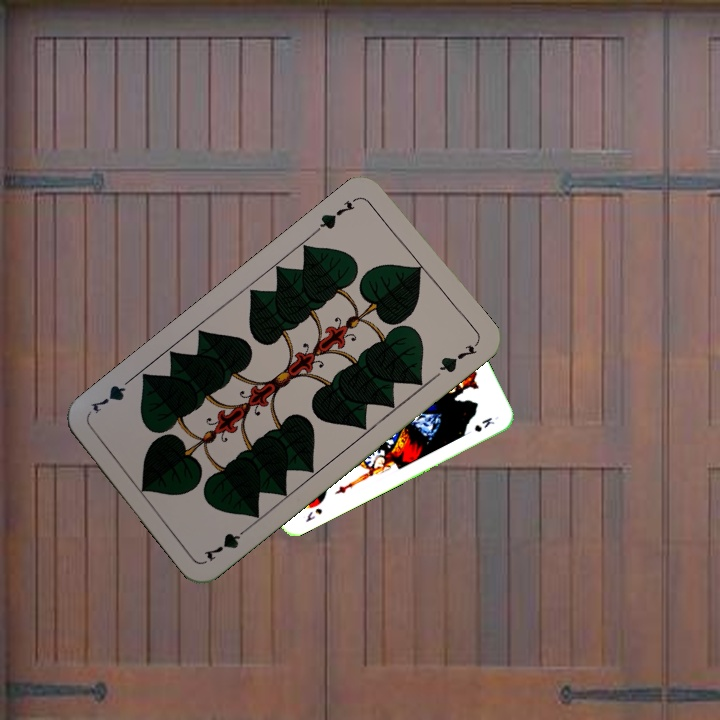G7: (200, 521, 253, 564), (312, 193, 361, 235)
SK: (302, 504, 325, 525)
